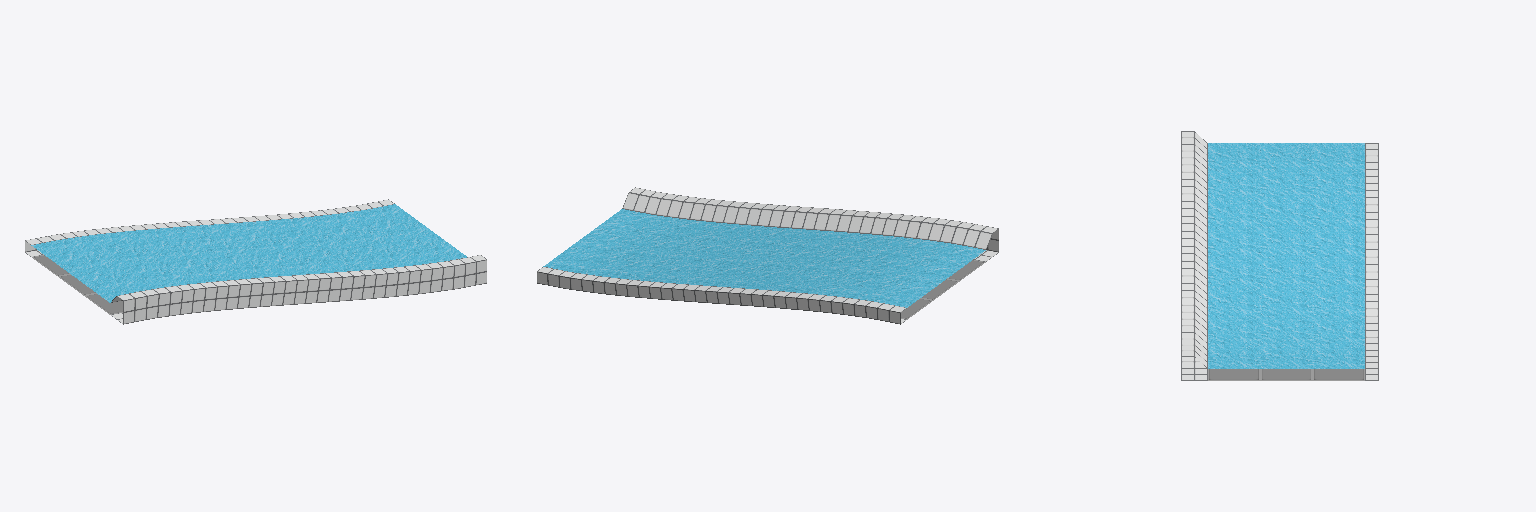
The picture shows the model from 3 angles: view 1: azimuth 30°, elevation 25°; view 2: azimuth 150°, elevation 25°; view 3: azimuth 270°, elevation 25°; orthographic projection.
Visible parts, largest first — view 1: Cube_Cube.001; view 2: Cube_Cube.001; view 3: Cube_Cube.001.
Boxes of the visible parts, box(x1,y1,x2,y2) form: Cube_Cube.001: box(25, 199, 486, 324); Cube_Cube.001: box(537, 187, 998, 324); Cube_Cube.001: box(1181, 131, 1378, 380).
Size of the model in its own units: 16 by 3 by 7.5.
3 materials, 3 textured.